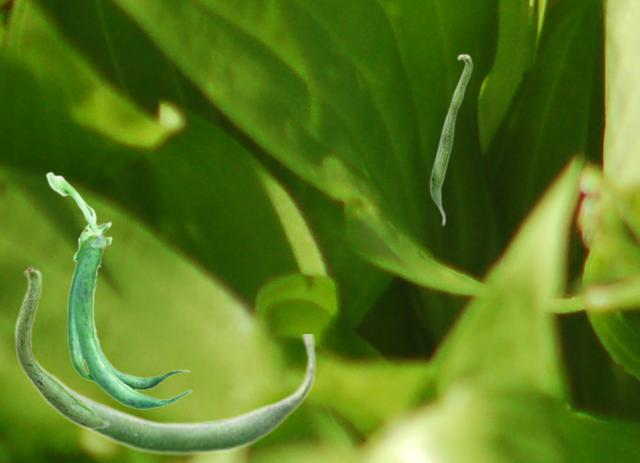french_bean: (45, 171, 191, 409), (43, 334, 316, 456), (14, 265, 109, 429), (429, 53, 472, 226)
